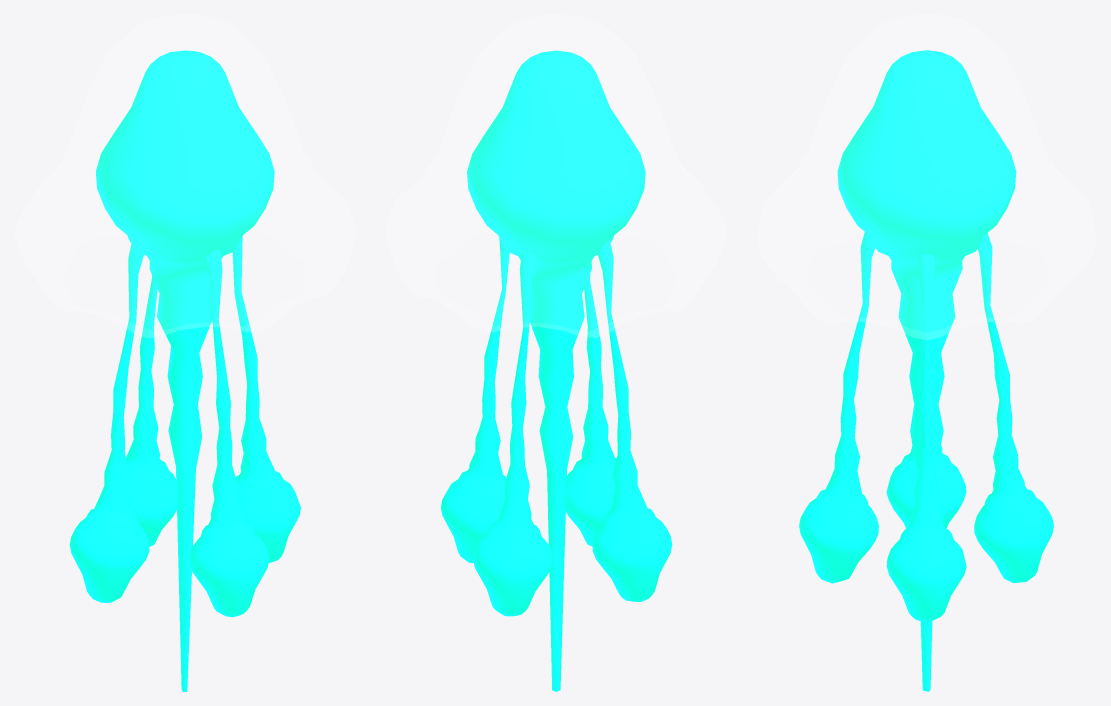
The model's file is neonjelly.glb.
3 views of the same model, side by side, from view 1: azimuth 30°, elevation 25°; view 2: azimuth 150°, elevation 25°; view 3: azimuth 270°, elevation 25° (orthographic).
Parts seen in each view (by area): view 1: Object_9, Object_7, Object_17, Object_13, Object_11, Object_15; view 2: Object_9, Object_7, Object_15, Object_13, Object_11, Object_17; view 3: Object_9, Object_7, Object_11, Object_15, Object_17, Object_13.
Boxes of the visible parts, x1=… form: Object_9: x1=96, y1=50, x2=274, y2=691; Object_7: x1=14, y1=14, x2=356, y2=337; Object_17: x1=189, y1=249, x2=269, y2=617; Object_13: x1=69, y1=241, x2=149, y2=602; Object_11: x1=232, y1=237, x2=300, y2=563; Object_15: x1=126, y1=275, x2=176, y2=546; Object_9: x1=467, y1=50, x2=645, y2=691; Object_7: x1=386, y1=14, x2=726, y2=337; Object_15: x1=473, y1=250, x2=552, y2=616; Object_13: x1=592, y1=240, x2=672, y2=601; Object_11: x1=441, y1=238, x2=509, y2=562; Object_17: x1=566, y1=274, x2=616, y2=546; Object_9: x1=837, y1=50, x2=1016, y2=691; Object_7: x1=757, y1=14, x2=1095, y2=339; Object_11: x1=886, y1=253, x2=966, y2=621; Object_15: x1=974, y1=233, x2=1053, y2=583; Object_17: x1=799, y1=232, x2=878, y2=583; Object_13: x1=886, y1=445, x2=966, y2=528.
Size of the model in its own units: 1.76 by 3.8 by 1.76.
